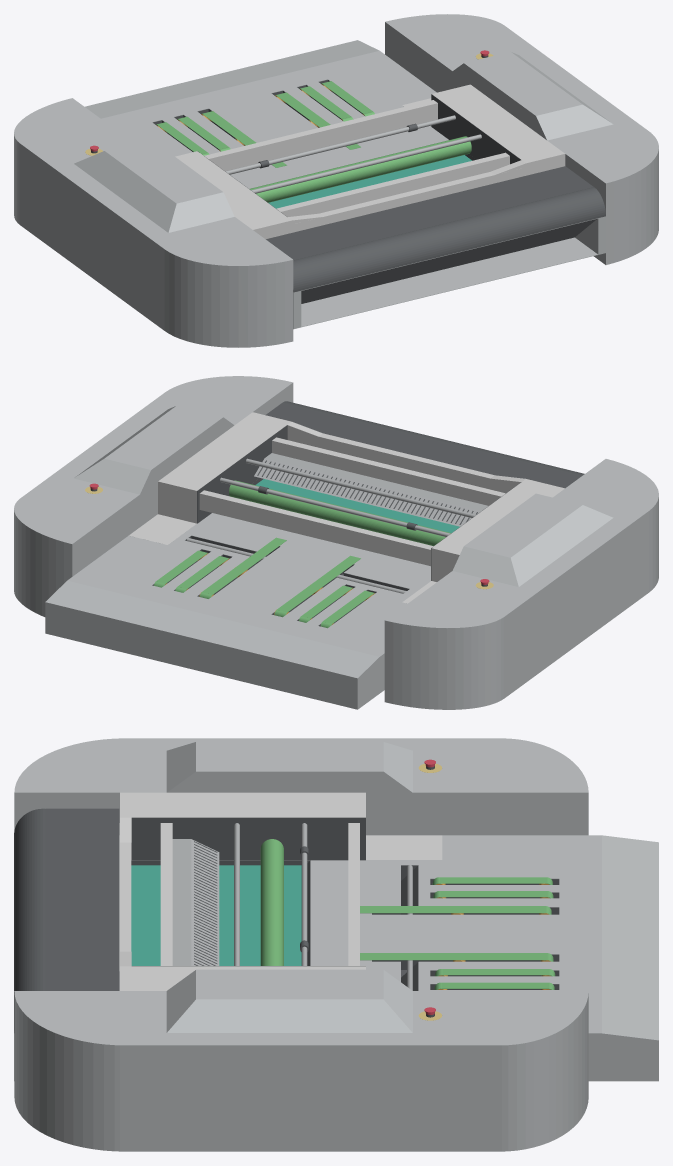
Rendered from ctp.glb.
The picture shows the model from 3 angles, top to bottom: view 1: azimuth 30°, elevation 25°; view 2: azimuth 150°, elevation 25°; view 3: azimuth 270°, elevation 25°; orthographic projection. The views are drawn at different scales.
Parts seen in each view (by area): view 1: Mesh_Mesh_head_geo.001_lambert2SG.001; view 2: Mesh_Mesh_head_geo.001_lambert2SG.001; view 3: Mesh_Mesh_head_geo.001_lambert2SG.001.
Boxes of the visible parts, left/top/right/bottom form: Mesh_Mesh_head_geo.001_lambert2SG.001: left=14, top=14, right=658, bottom=347; Mesh_Mesh_head_geo.001_lambert2SG.001: left=14, top=376, right=658, bottom=709; Mesh_Mesh_head_geo.001_lambert2SG.001: left=14, top=738, right=658, bottom=1151.
Bounding box in the file's own units: 0.124 × 0.024 × 0.1101.
